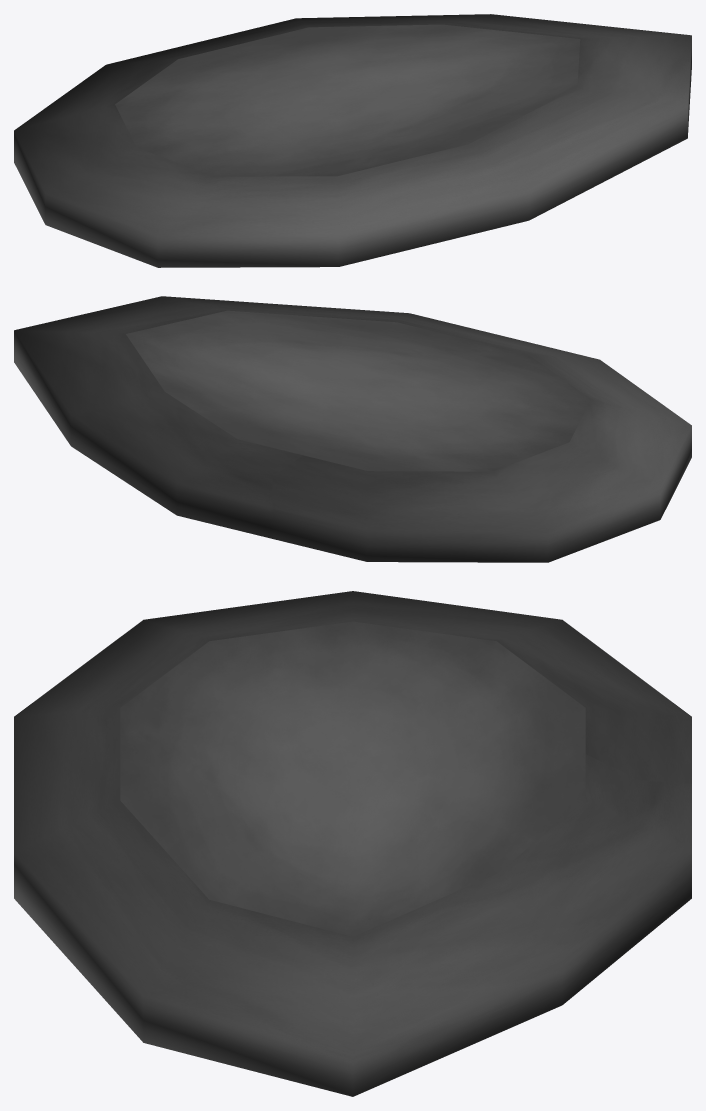
File: steentje.FBX
3 views of the same model, one above another, from view 1: azimuth 30°, elevation 25°; view 2: azimuth 150°, elevation 25°; view 3: azimuth 270°, elevation 25° (orthographic). The views are drawn at different scales.
Visible parts, largest first — view 1: Cylinder001; view 2: Cylinder001; view 3: Cylinder001.
Boxes of the visible parts, left/top/right/bottom form: Cylinder001: left=14, top=14, right=691, bottom=267; Cylinder001: left=14, top=296, right=691, bottom=562; Cylinder001: left=14, top=591, right=691, bottom=1096.
Bounding box in the file's own units: 59.46 × 6.54 × 37.08.
1 material, 1 textured.
